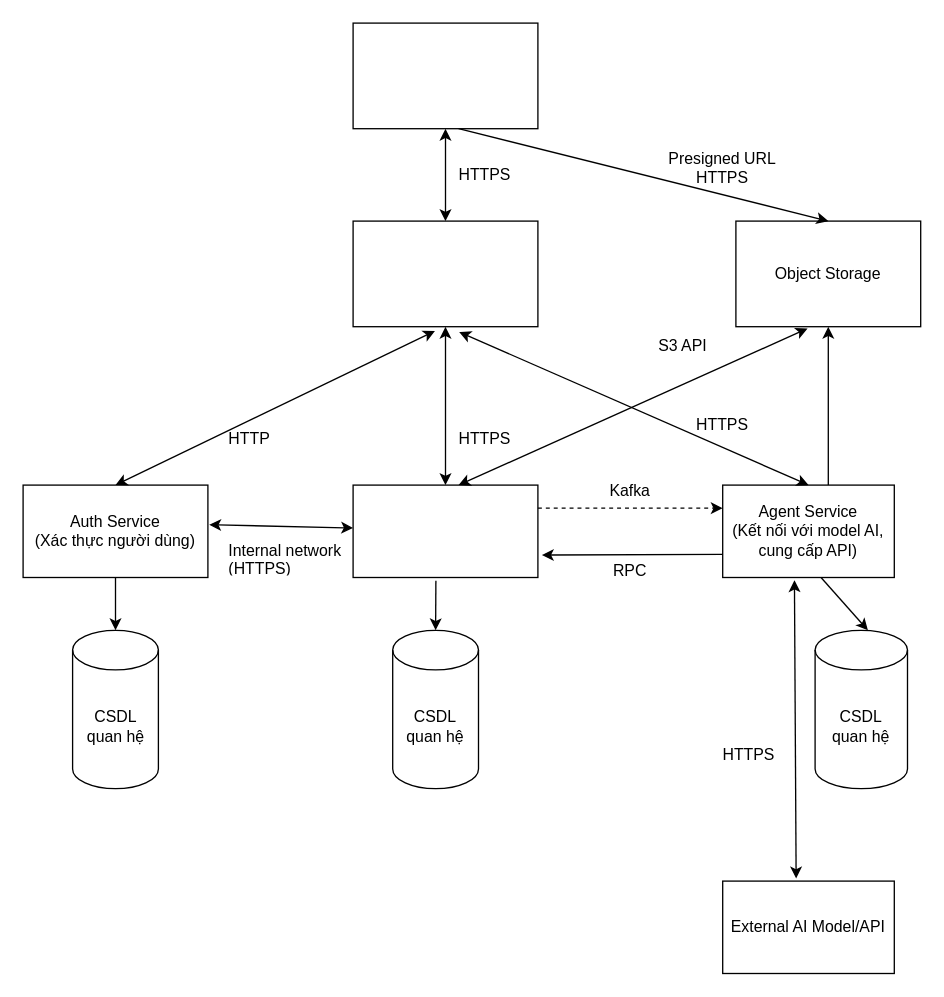
The diagram is 944 pixels wide and 997 high, and some of its shapes have lost their labels. The shapes that lost their labels are listed below. From the top down, each one's centre as x and y in pixels, then its label:
At point 445,75: "Client".
At point 445,273: "API Gateway (Google Cloud Gateway, Spring Cloud Gateway,...)".
At point 445,531: "Storage Service (Core của hệ thống lưu trữ đám mây, chuẩn S3)".
